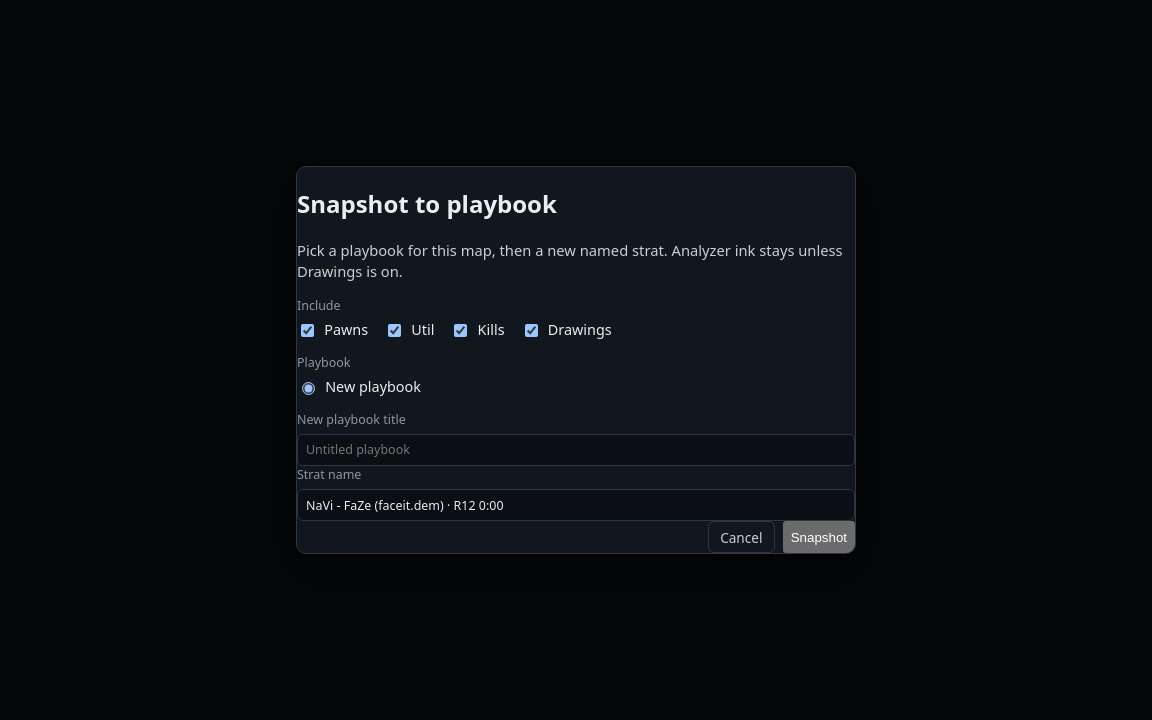
Scenario: SnapshotDialog › disables snapshot when every layer is off
The width and height of the screenshot is (1152, 720).
Expected: the button "Snapshot" is enabled, [783,521,855,553]
Click the checkbox labelled "Pawns": {"x": 308, "y": 330} [301,324,314,337]
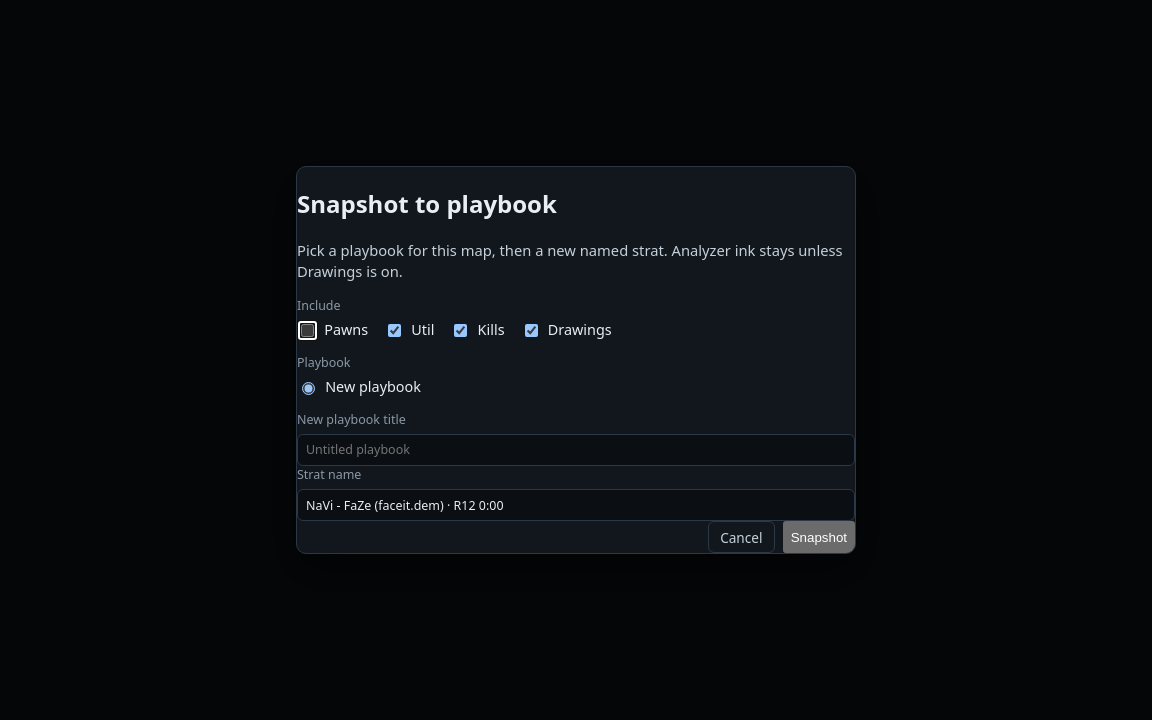
Click the checkbox labelled "Util": {"x": 395, "y": 330} [388,324,401,337]
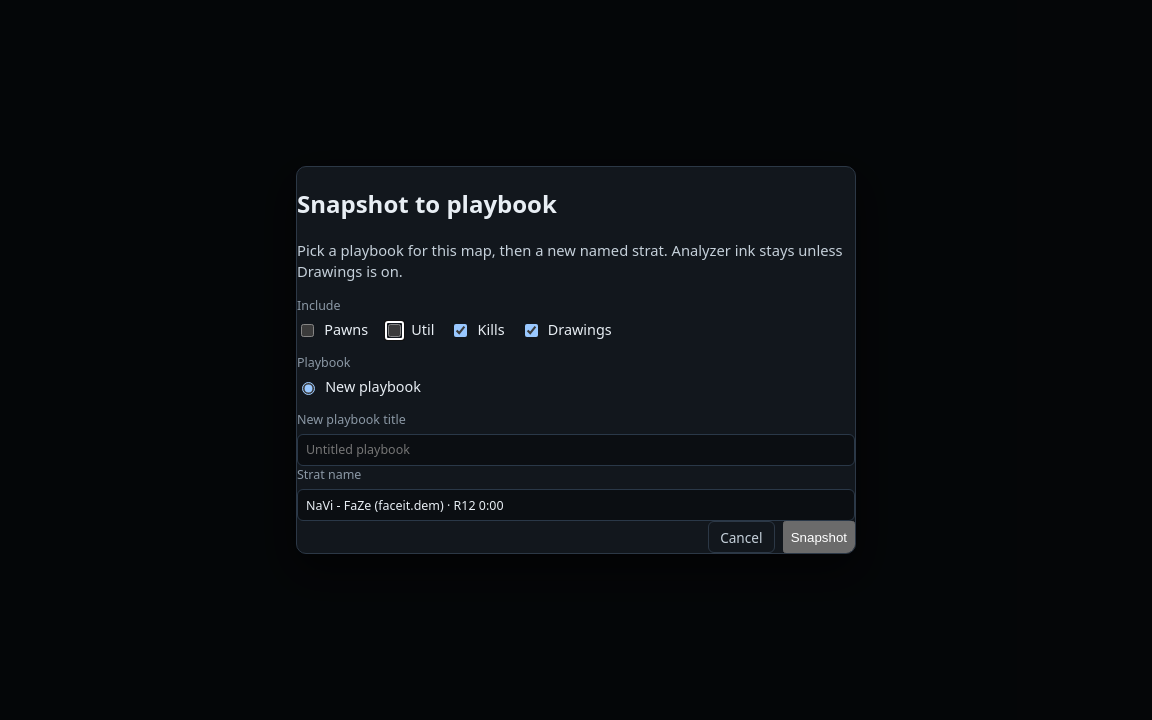
Click the checkbox labelled "Kills": {"x": 461, "y": 330} [454,324,467,337]
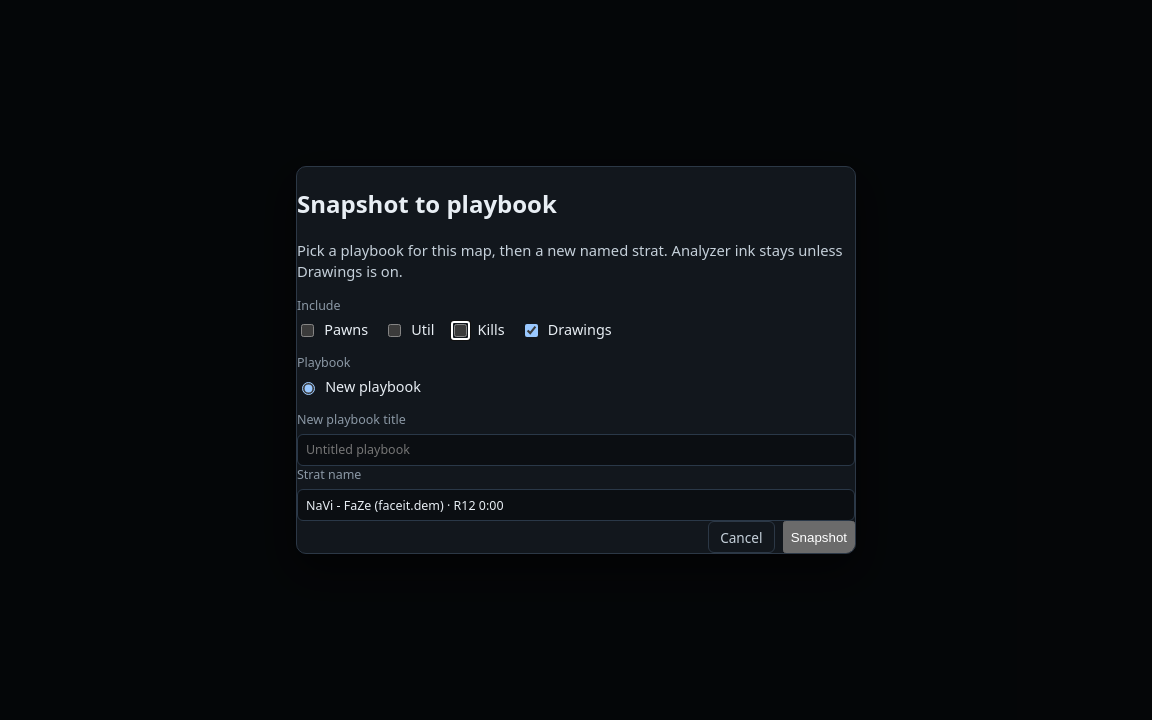
Click the checkbox labelled "Drawings": {"x": 531, "y": 330} [524,324,538,337]
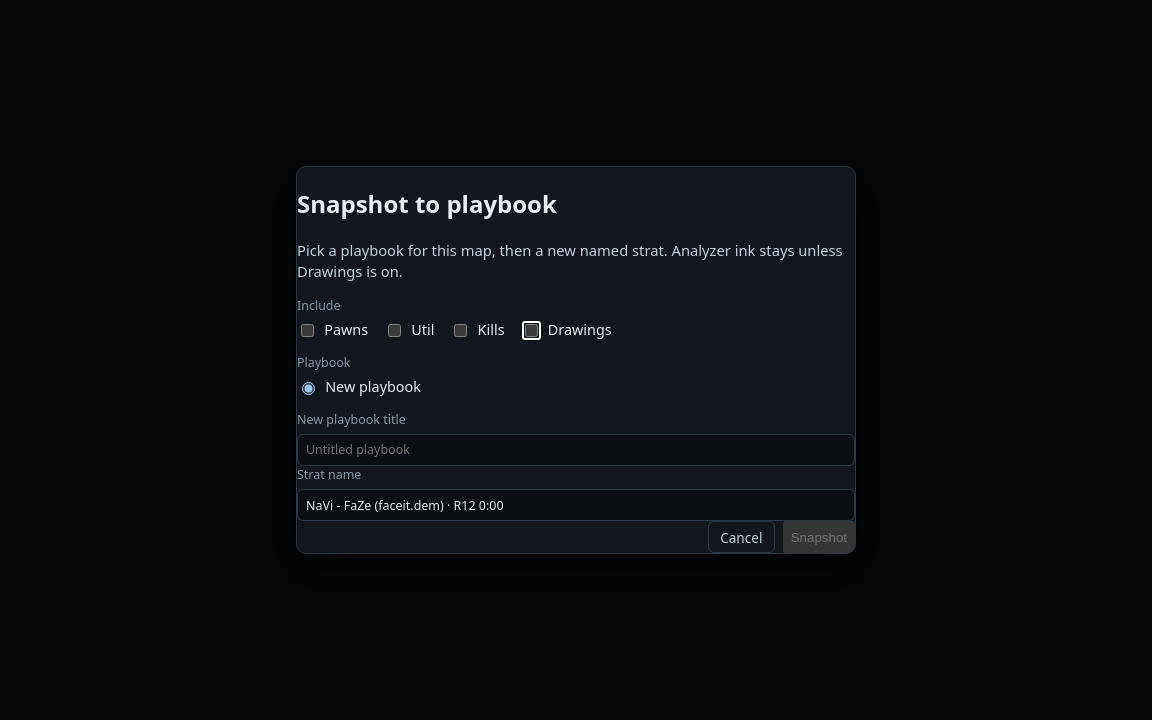
Expected: the button "Snapshot" is disabled, [783,521,855,553]
